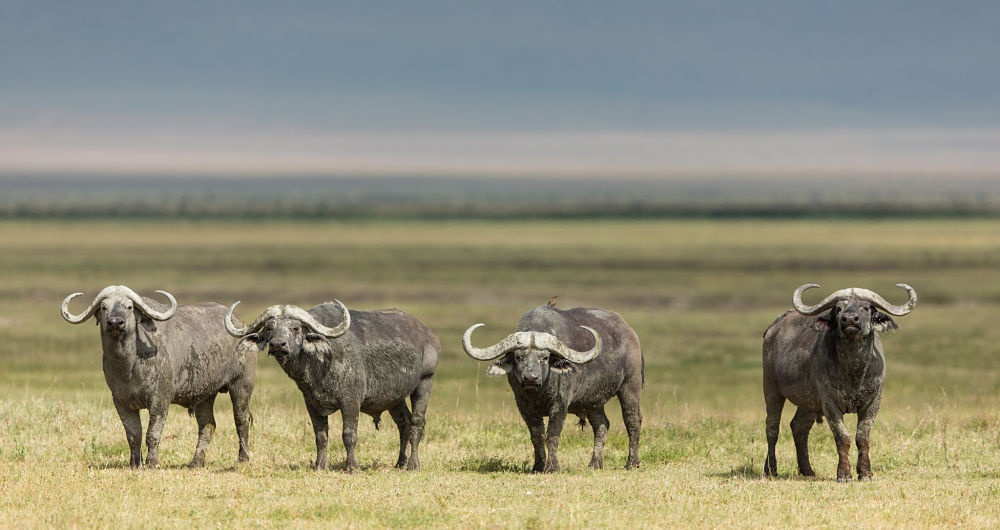buffalo: (59, 282, 261, 474), (222, 296, 443, 470), (757, 280, 921, 484), (458, 305, 646, 470)
